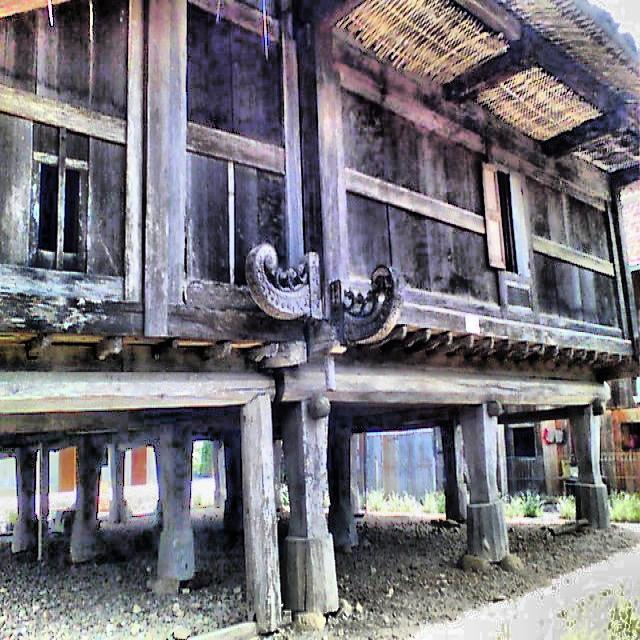column: (283, 403, 338, 614), (462, 404, 508, 561), (155, 440, 195, 579), (574, 406, 609, 529), (71, 446, 108, 562), (329, 428, 358, 548), (13, 452, 38, 551), (442, 426, 467, 520), (224, 435, 243, 532), (109, 447, 127, 522), (39, 451, 49, 558)
ornamen: (246, 243, 400, 356)
roof: (267, 1, 639, 186)
wall: (0, 1, 635, 378)
window: (482, 162, 530, 278), (37, 162, 80, 254)
